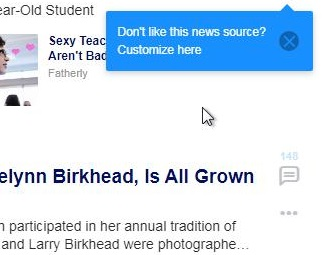cursor: (200, 105, 215, 127)
